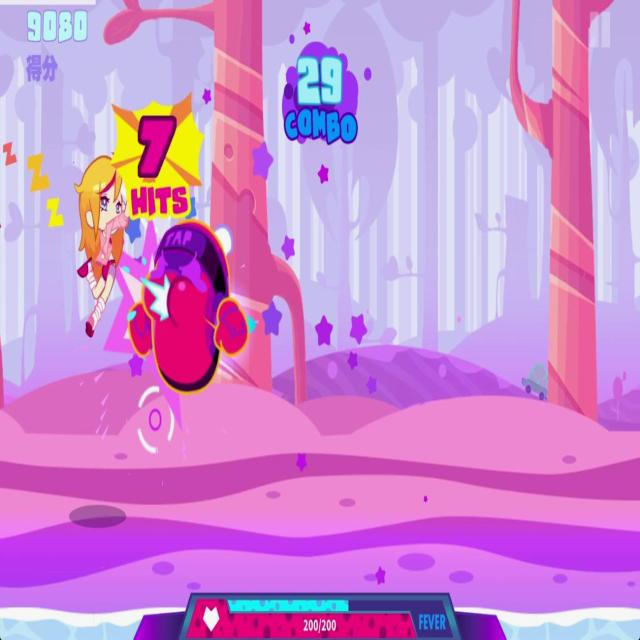tapboss: (125, 208, 250, 402)
